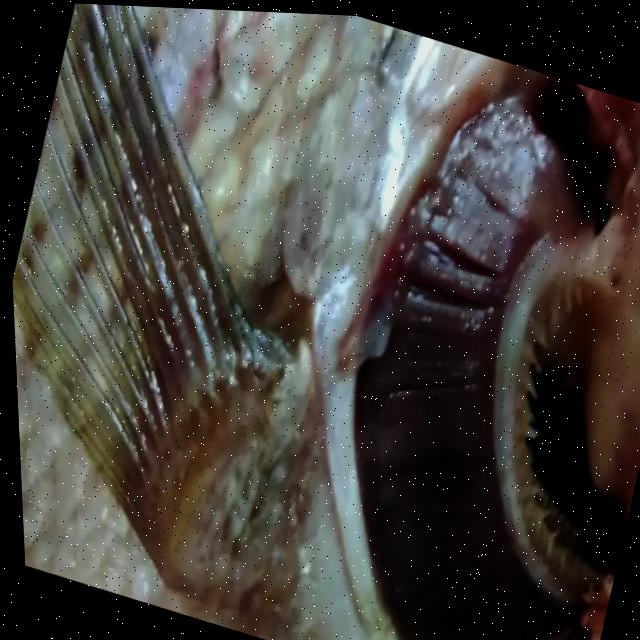Non-Fresh: (243, 27, 640, 640)
